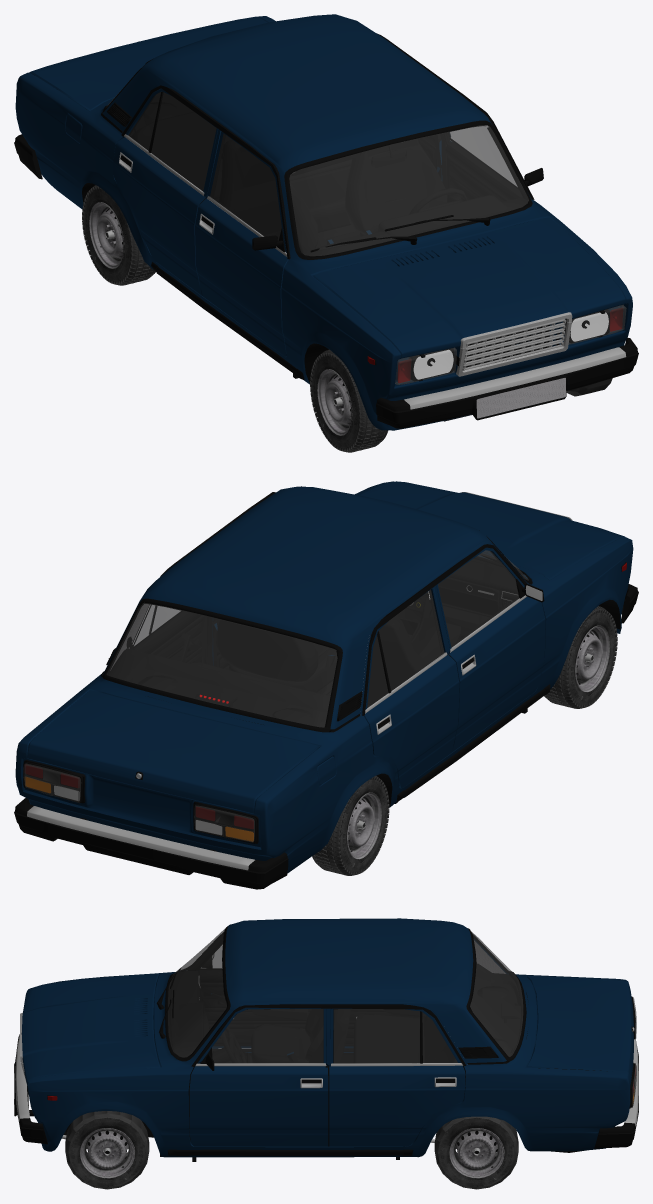
File: lada.glb
The picture shows the model from 3 angles, top to bottom: view 1: azimuth 30°, elevation 25°; view 2: azimuth 150°, elevation 25°; view 3: azimuth 270°, elevation 25°; orthographic projection. The views are drawn at different scales.
Visible parts, largest first — view 1: body, wheel0, wheel1; view 2: body, wheel1, wheel0; view 3: body, wheel2, wheel3.
Part boxes in pixels (x1,y1,x2,y2): body: (14,14,638,430); wheel0: (310,349,388,452); wheel1: (82,185,155,285); body: (14,481,638,889); wheel1: (312,775,389,875); wheel0: (544,606,617,708); body: (14,918,638,1161); wheel2: (65,1111,149,1189); wheel3: (434,1116,518,1189).
Bounding box in the file's own units: 1.98 × 1.53 × 4.55.
16 materials, 2 textured.
